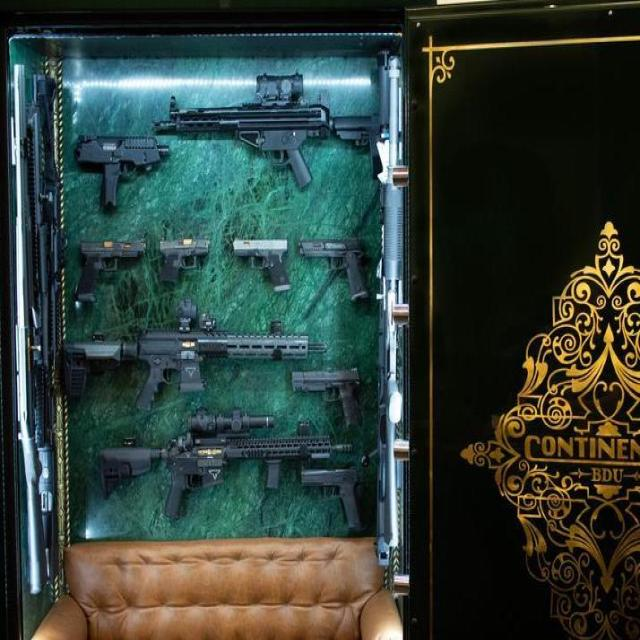HandGun: (74, 240, 146, 303), (297, 239, 366, 299), (291, 369, 359, 426), (300, 470, 360, 531), (232, 240, 290, 291), (159, 238, 210, 282)
Rifle: (100, 408, 333, 519), (68, 336, 309, 411)
SMG: (153, 74, 371, 188), (76, 135, 168, 211)
